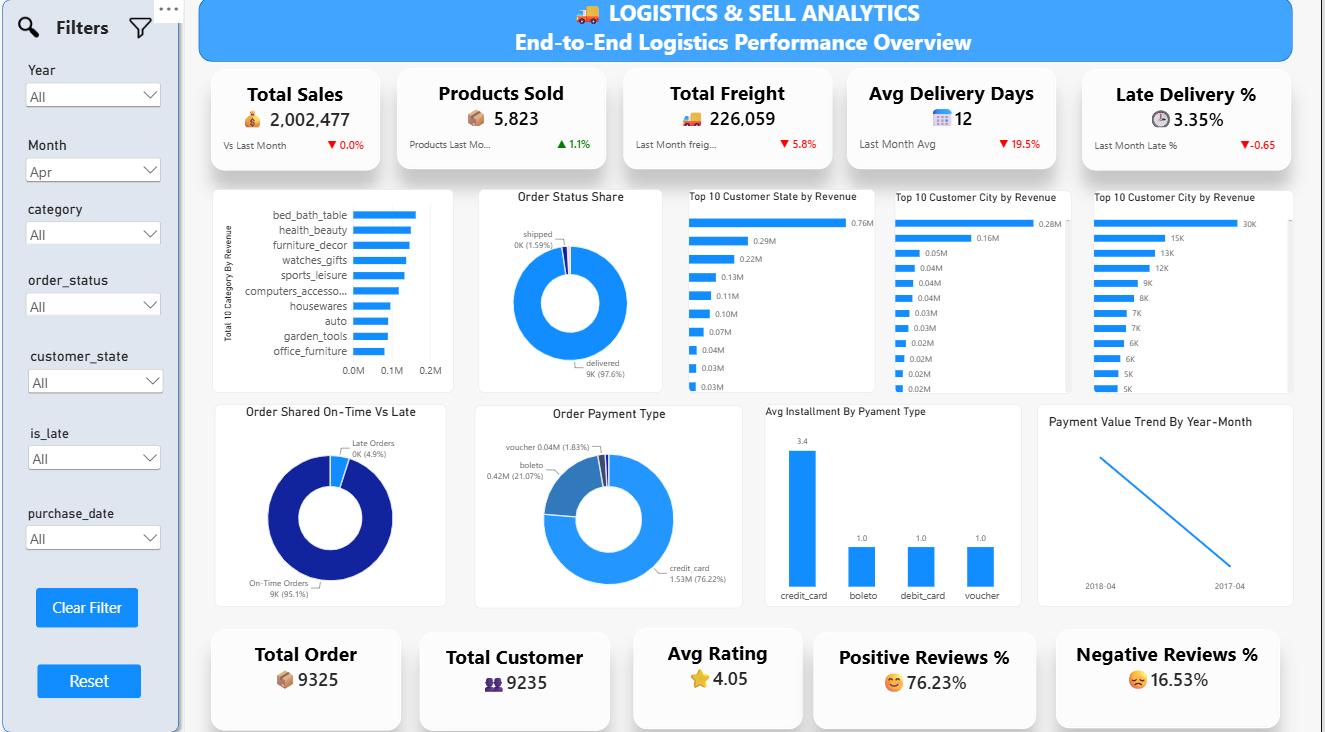

The dashboard page shown, as its layout file describes it:
{"tool":"powerbi","page":{"name":"Page 1","canvas":[1920,1080],"ordinal":0},"visuals":[{"type":"shape","box":[0,0,274,1080],"z":0},{"type":"shape","box":[294,6,1584,94],"z":1000},{"type":"image","box":[28,26,40,48],"z":2000},{"type":"textbox","box":[86,30,92.6,41.2],"z":3000},{"type":"image","box":[190,20,38,60],"z":4000},{"type":"slicer","fields":{"Values":["Dim_Date.Year"]},"box":[38,100,206,72],"z":5000},{"type":"actionButton","box":[58,862,148.2,57.6],"z":6000},{"type":"cardVisual","title":"Total Sell","fields":{"Data":["public bi_fact_sales.Total Sales"]},"box":[312,110,244.9,146.1],"z":7000},{"type":"textbox","box":[294,6,1586,146],"z":8000},{"type":"actionButton","box":[60,972,150.3,49.4],"z":9000},{"type":"slicer","fields":{"Values":["Dim_Date.Month"]},"box":[38,208,206,76],"z":10000},{"type":"slicer","fields":{"Values":["public bi_fact_sales.category"]},"box":[38,300,206,62],"z":11000},{"type":"slicer","fields":{"Values":["public bi_fact_sales.order_status"]},"box":[38,404,206,62],"z":12000},{"type":"slicer","fields":{"Values":["public bi_fact_sales.customer_state"]},"box":[42,514,206,70],"z":13000},{"type":"slicer","fields":{"Values":["public bi_fact_sales.is_late"]},"box":[42,626,202,82],"z":14000},{"type":"slicer","fields":{"Values":["public bi_fact_sales.purchase_date"]},"box":[38,742,206,86],"z":15000},{"type":"cardVisual","title":"Total Sell","fields":{"Data":["public bi_fact_sales.Product Sales"]},"box":[580,108,302,146],"z":16000},{"type":"cardVisual","title":"Total Sell","fields":{"Data":["public bi_fact_sales.Total Freight"]},"box":[908,108,302,146],"z":17000},{"type":"cardVisual","title":"Total Sell","fields":{"Data":["public bi_fact_sales.Avg Delivery Days"]},"box":[1232,108,302,146],"z":18000},{"type":"cardVisual","title":"Total Sell","fields":{"Data":["public bi_fact_sales.Late Delivery %"]},"box":[1572,110,302,146],"z":19000},{"type":"clusteredBarChart","title":"Total 10 Category By Revenue","fields":{"Category":["public bi_fact_sales.category"],"Y":["public bi_fact_sales.Total Revenue"]},"box":[312.9,284,349.9,294.3],"z":20000},{"type":"donutChart","title":"Order Status Share","fields":{"Category":["public bi_fact_sales.order_status"],"Y":["public bi_fact_sales.Order"]},"box":[698,284.6,266,294],"z":21000},{"type":"barChart","title":"Top 10 Customer State  by Revenue","fields":{"Category":["public bi_fact_sales.customer_state"],"Y":["public bi_fact_sales.Total Revenue"]},"box":[1002,284.6,270,294],"z":22000},{"type":"barChart","title":"Top 10 Customer City  by Revenue","fields":{"Category":["public bi_fact_sales.customer_city"],"Y":["public bi_fact_sales.Total Revenue"]},"box":[1302,286.6,256,294],"z":23000},{"type":"barChart","title":"Top 10 Customer City  by Revenue","fields":{"Category":["public bi_fact_sales.customer_id"],"Y":["public bi_fact_sales.Total Revenue"]},"box":[1588,286.6,290,294],"z":24000},{"type":"donutChart","title":"Order Shared On-Time Vs Late","fields":{"Y":["public bi_fact_sales.Late Orders","public bi_fact_sales.On-Time Orders"]},"box":[316.3,595.6,335,293.3],"z":25000},{"type":"donutChart","title":"Order Payment Type","fields":{"Category":["public bi_fact_sales.payment_type"],"Y":["Sum(public bi_fact_sales.payment_value)"]},"box":[693,597.3,388.3,293.3],"z":26000},{"type":"columnChart","title":"Avg Installment By Pyament Type","fields":{"Category":["public bi_fact_sales.payment_type"],"Y":["public bi_fact_sales.Avg Installments"]},"box":[1113,595.6,371.7,293.3],"z":27000},{"type":"cardVisual","title":"Total Sell","fields":{"Data":["public bi_fact_sales.Avg Rating"]},"box":[922.2,919.3,245,146.7],"z":28000},{"type":"cardVisual","title":"Total Sell","fields":{"Data":["public bi_fact_sales.Positive Reviews %"]},"box":[1184,924,322.1,143],"z":29000},{"type":"cardVisual","title":"Total Sell","fields":{"Data":["public bi_fact_sales.Negative Reviews %"]},"box":[1534,922,323.9,143],"z":30000},{"type":"cardVisual","title":"Total Sell","fields":{"Data":["public bi_fact_sales.Sellers"]},"box":[612.7,924.7,275.1,143],"z":31000},{"type":"lineChart","title":"Payment Value Trend By  Year-Month","fields":{"Category":["Dim_Date.Year-Month"],"Y":["Sum(public bi_fact_sales.payment_value)"]},"box":[1506.7,595.4,371,293.2],"z":32000},{"type":"cardVisual","title":"Total Sell","fields":{"Data":["public bi_fact_sales.Total Order"]},"box":[312,922,275.1,143],"z":33000}]}

Visuals, with their boxes on the page's 1920x1080 design canvas (x1, y1, x2, y2). These are canvas units, not pixel positions in the 1325x732 screenshot, which may show the page scaled, cropped or inside an application window:
shape: 0,0,274,1080
shape: 294,6,1878,100
image: 28,26,68,74
textbox: 86,30,179,71
image: 190,20,228,80
slicer - Dim_Date.Year: 38,100,244,172
actionButton: 58,862,206,920
"Total Sell" cardVisual: 312,110,557,256
textbox: 294,6,1880,152
actionButton: 60,972,210,1021
slicer - Dim_Date.Month: 38,208,244,284
slicer - public bi_fact_sales.category: 38,300,244,362
slicer - public bi_fact_sales.order_status: 38,404,244,466
slicer - public bi_fact_sales.customer_state: 42,514,248,584
slicer - public bi_fact_sales.is_late: 42,626,244,708
slicer - public bi_fact_sales.purchase_date: 38,742,244,828
"Total Sell" cardVisual: 580,108,882,254
"Total Sell" cardVisual: 908,108,1210,254
"Total Sell" cardVisual: 1232,108,1534,254
"Total Sell" cardVisual: 1572,110,1874,256
"Total 10 Category By Revenue" clusteredBarChart: 313,284,663,578
"Order Status Share" donutChart: 698,285,964,579
"Top 10 Customer State  by Revenue" barChart: 1002,285,1272,579
"Top 10 Customer City  by Revenue" barChart: 1302,287,1558,581
"Top 10 Customer City  by Revenue" barChart: 1588,287,1878,581
"Order Shared On-Time Vs Late" donutChart: 316,596,651,889
"Order Payment Type" donutChart: 693,597,1081,891
"Avg Installment By Pyament Type" columnChart: 1113,596,1485,889
"Total Sell" cardVisual: 922,919,1167,1066
"Total Sell" cardVisual: 1184,924,1506,1067
"Total Sell" cardVisual: 1534,922,1858,1065
"Total Sell" cardVisual: 613,925,888,1068
"Payment Value Trend By  Year-Month" lineChart: 1507,595,1878,889
"Total Sell" cardVisual: 312,922,587,1065
